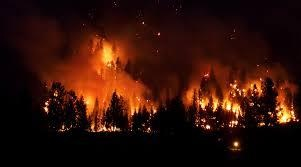fire: (187, 65, 299, 128), (97, 41, 116, 71), (90, 119, 120, 132)
